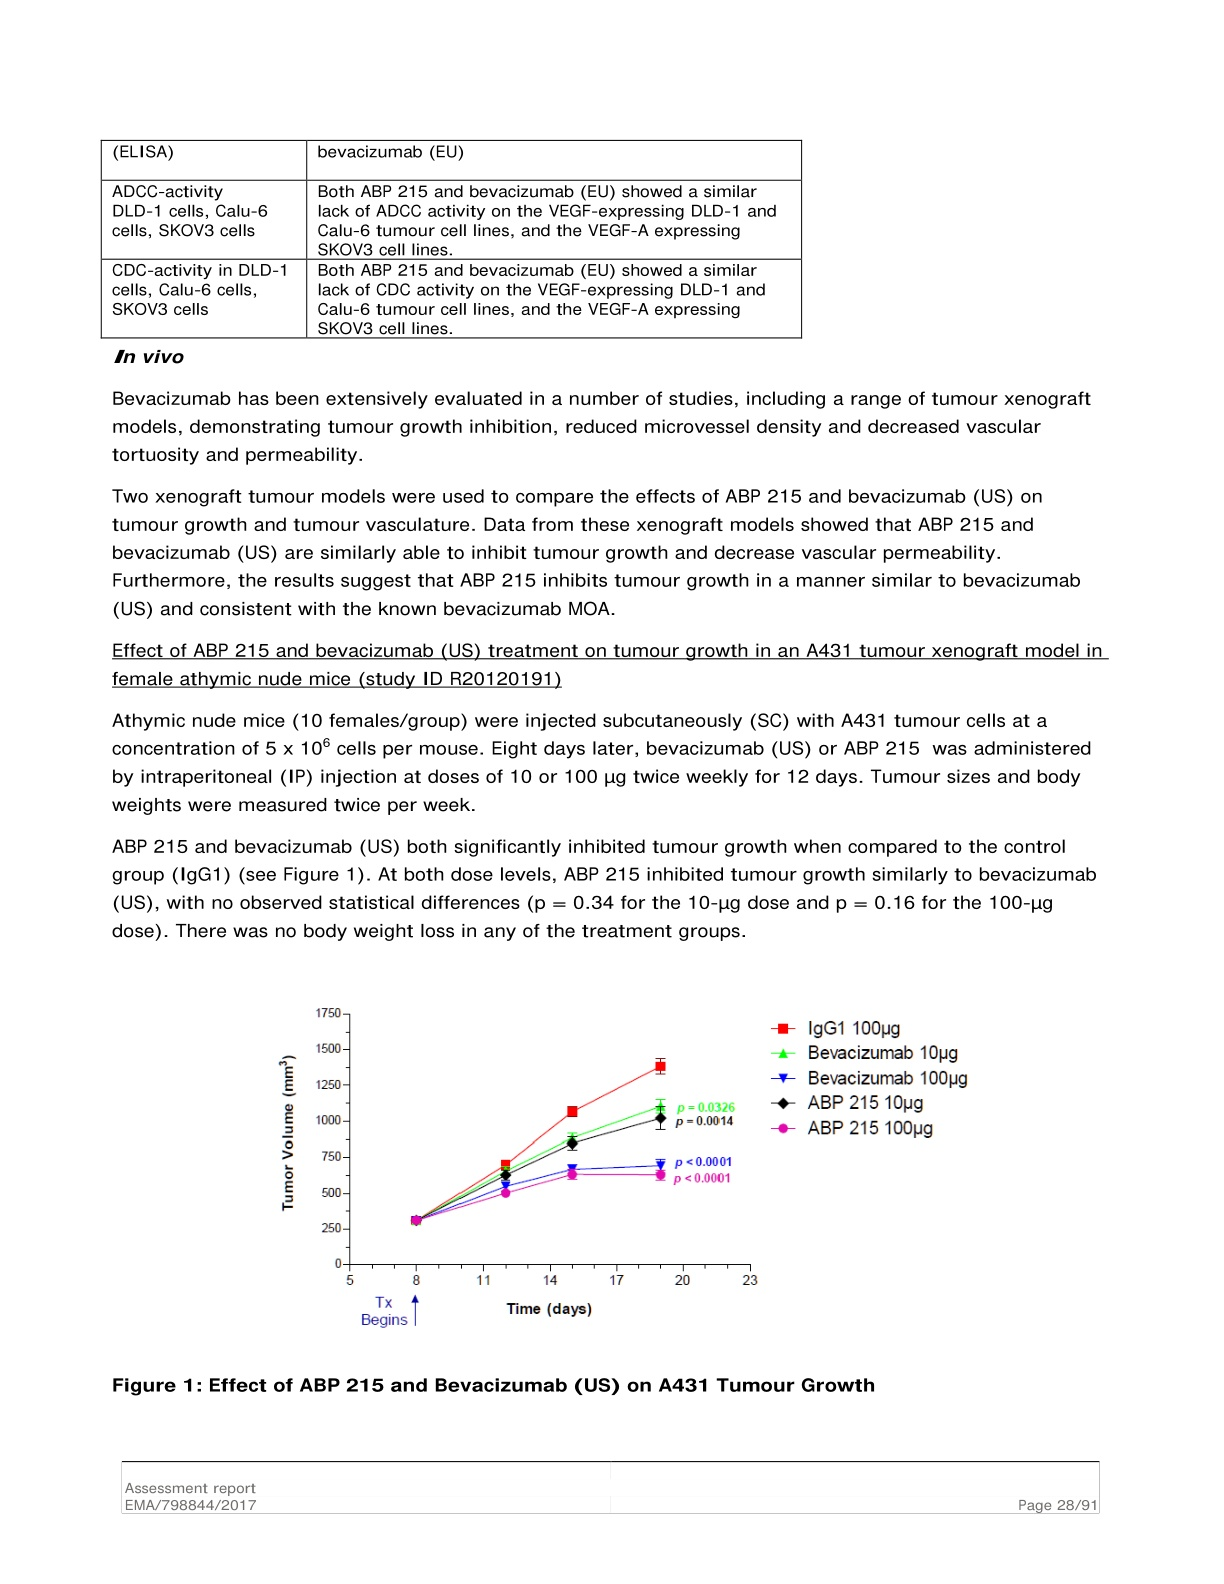full_lined: (99, 138, 804, 339)
